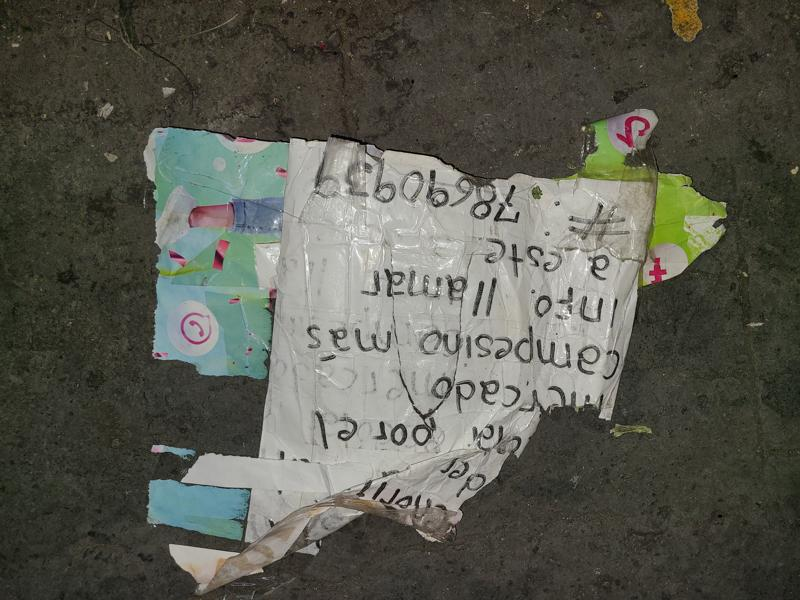papel: (143, 111, 728, 593)
